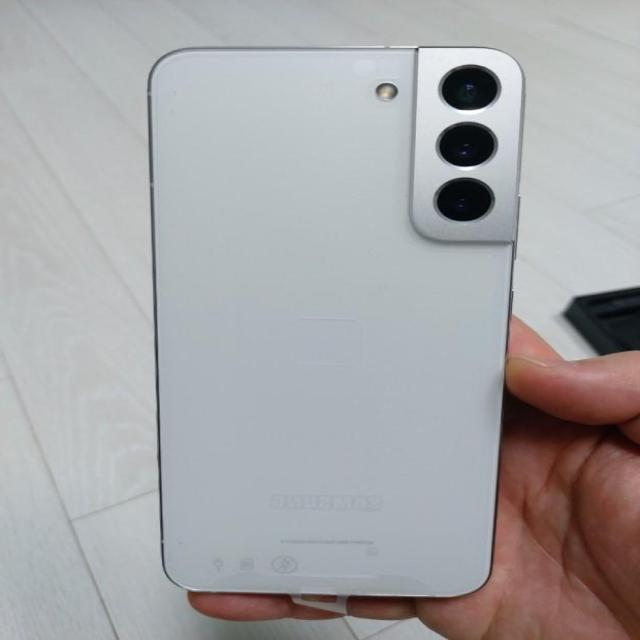mobile: (155, 42, 526, 596)
